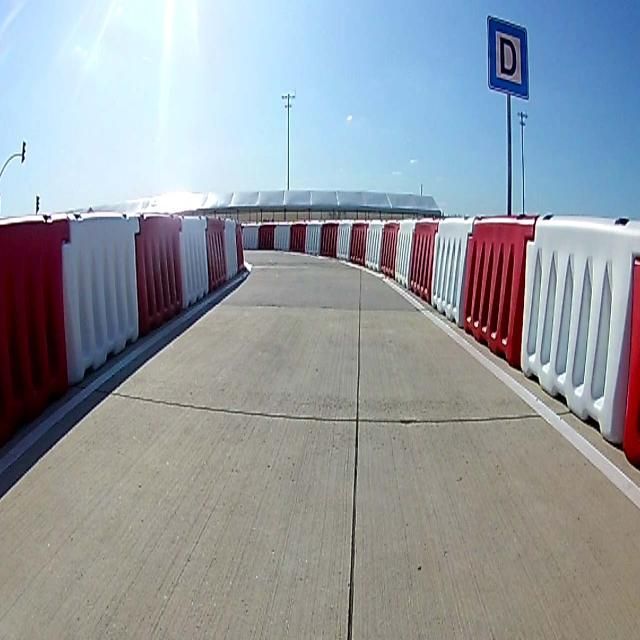durak: (488, 16, 528, 94)
